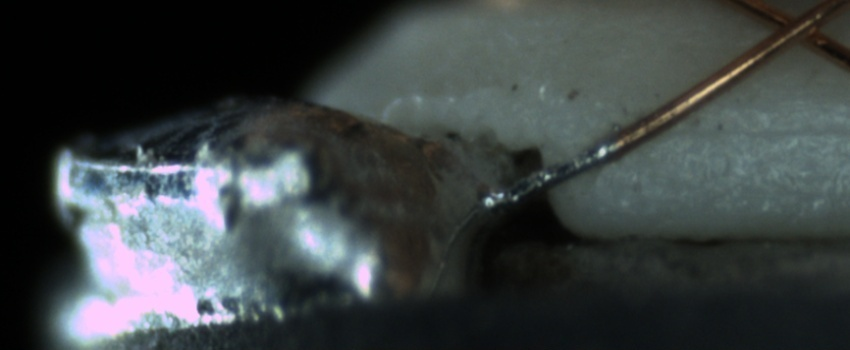CL: (749, 0, 842, 57)
DL: (664, 99, 849, 163)
TS: (487, 134, 623, 212)
TTCW: (476, 119, 646, 216)
